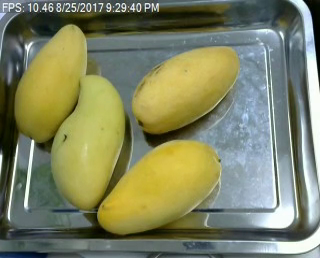Mango: (96, 139, 222, 234), (50, 76, 125, 207), (131, 45, 240, 135), (13, 22, 90, 144)
